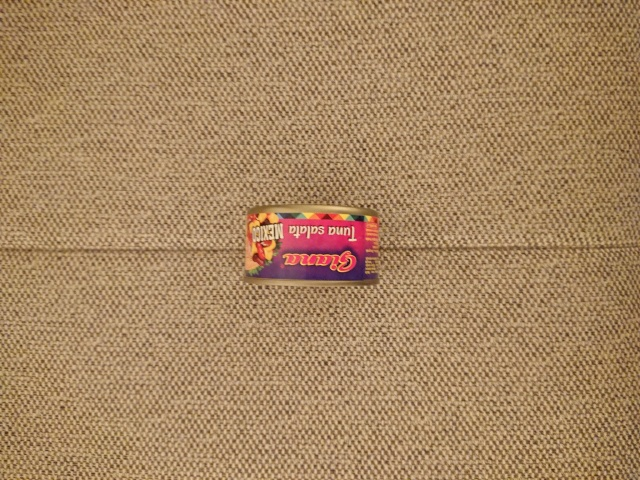Giana Tuna Salad Mexico 185g: (237, 199, 385, 289)
